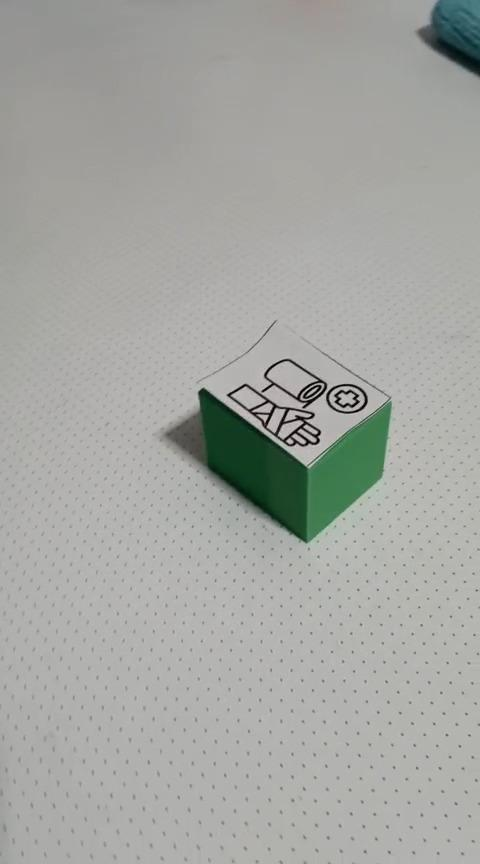Bandages: (195, 318, 392, 543)
